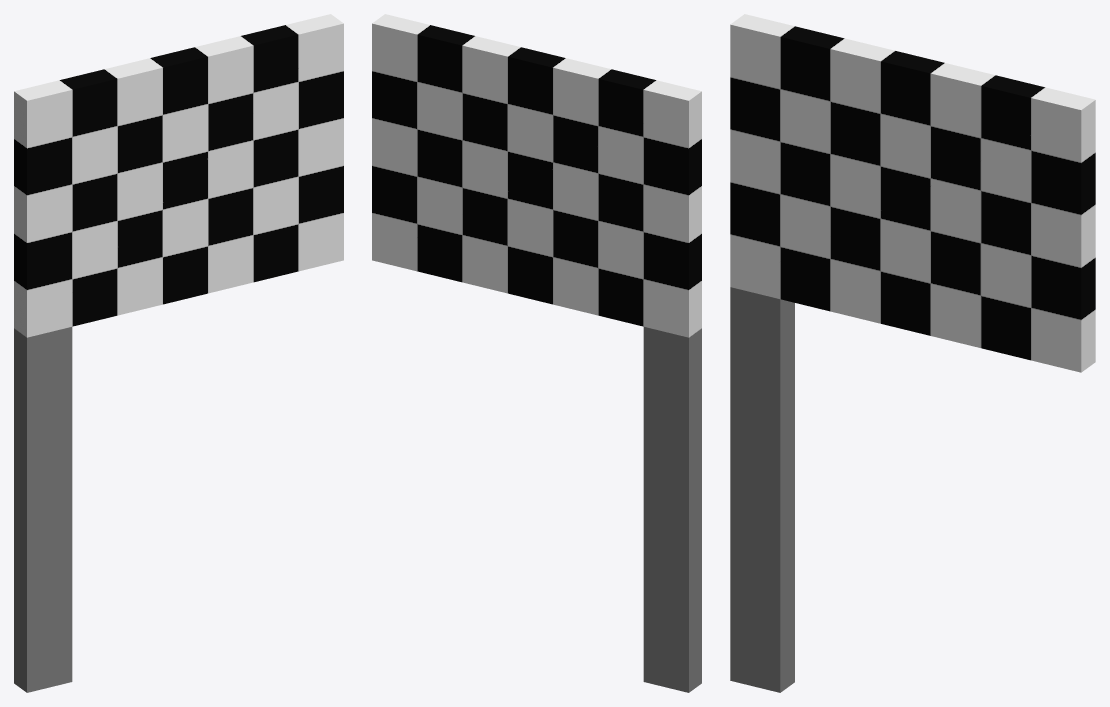
Rendered from Right_Flag.fbx.
3 renders of one model, left to right at view 1: azimuth 30°, elevation 25°; view 2: azimuth 150°, elevation 25°; view 3: azimuth 330°, elevation 25°, orthographic. The views are drawn at different scales.
Visible parts, largest first — view 1: Right_Flag; view 2: Right_Flag; view 3: Right_Flag.
Part boxes in pixels (left/top/right/bottom): Right_Flag: left=14, top=14, right=343, bottom=692; Right_Flag: left=372, top=14, right=701, bottom=692; Right_Flag: left=730, top=14, right=1095, bottom=692.
Size of the model in its own units: 14 by 25 by 1.
Materials: 1 (1 with a texture image).
